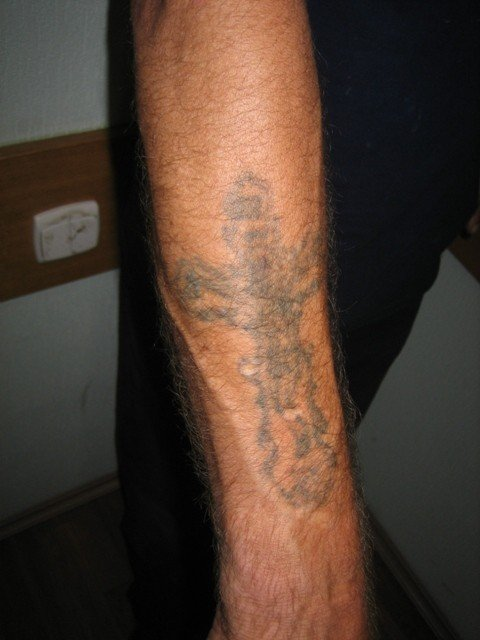tatu9_krest: (179, 157, 349, 493)
